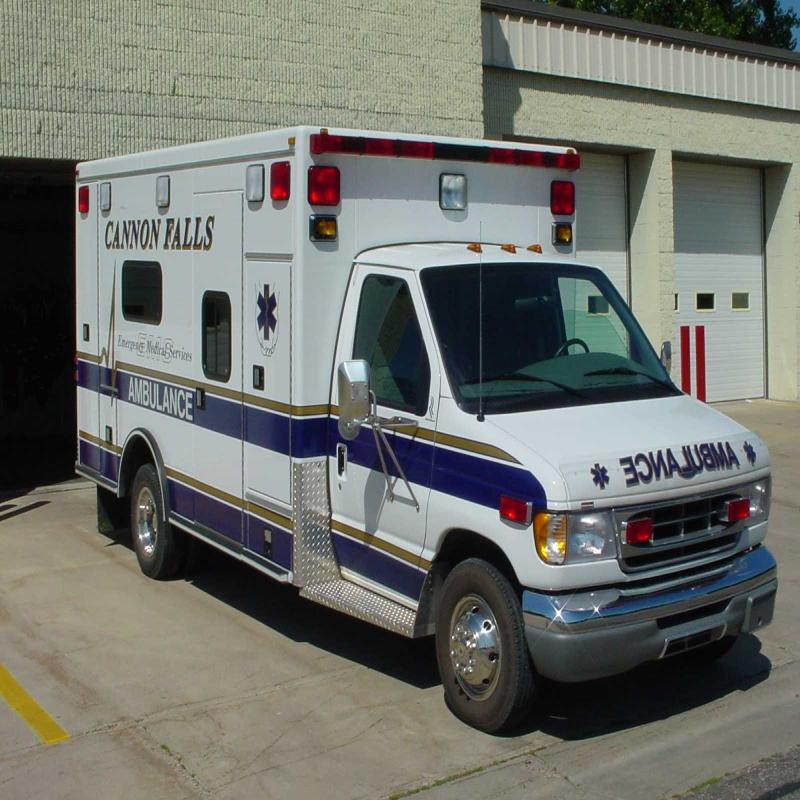ambulance: (45, 118, 750, 665)
